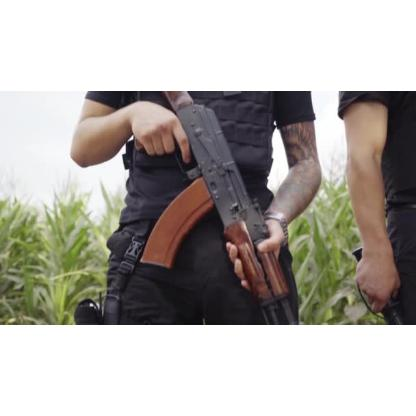gun: (145, 92, 296, 322)
